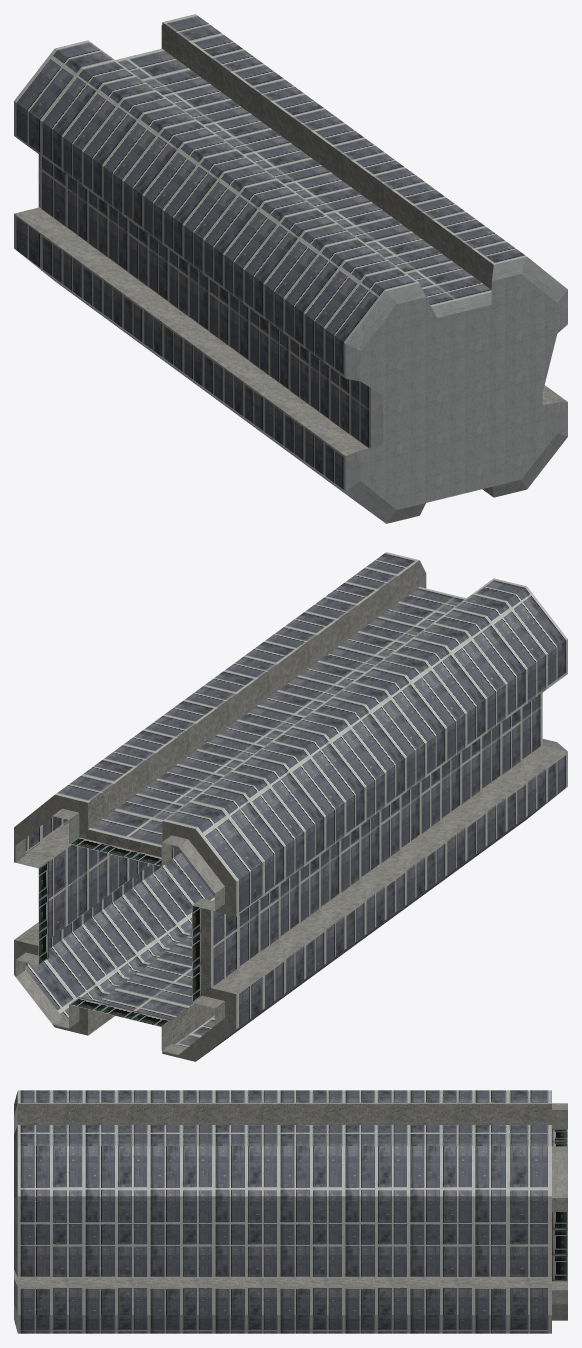
Rendered from skyscraper_windowC_03.obj.
3 views of the same model, one above another, from view 1: azimuth 30°, elevation 25°; view 2: azimuth 150°, elevation 25°; view 3: azimuth 270°, elevation 25° (orthographic). The views are drawn at different scales.
Parts seen in each view (by area): view 1: Object51; view 2: Object51; view 3: Object51.
Boxes of the visible parts, x1=… form: Object51: x1=14, y1=14, x2=567, y2=523; Object51: x1=14, y1=552, x2=567, y2=1061; Object51: x1=14, y1=1090, x2=567, y2=1333.
Bounding box in the file's own units: 44.68 × 44.68 × 120.
4 materials, 4 textured.
